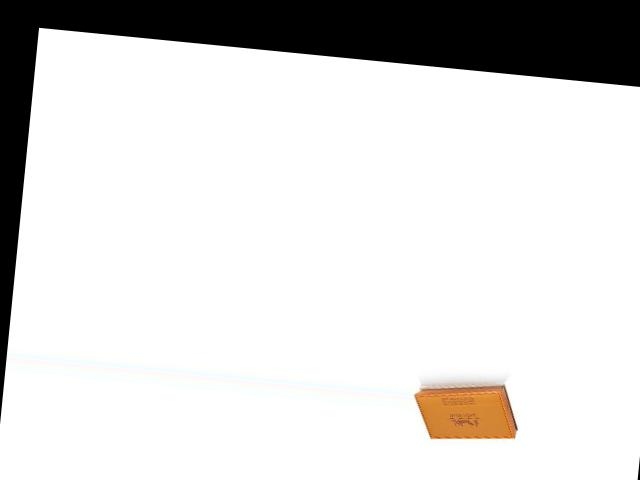chocolate: (410, 368, 524, 450)
